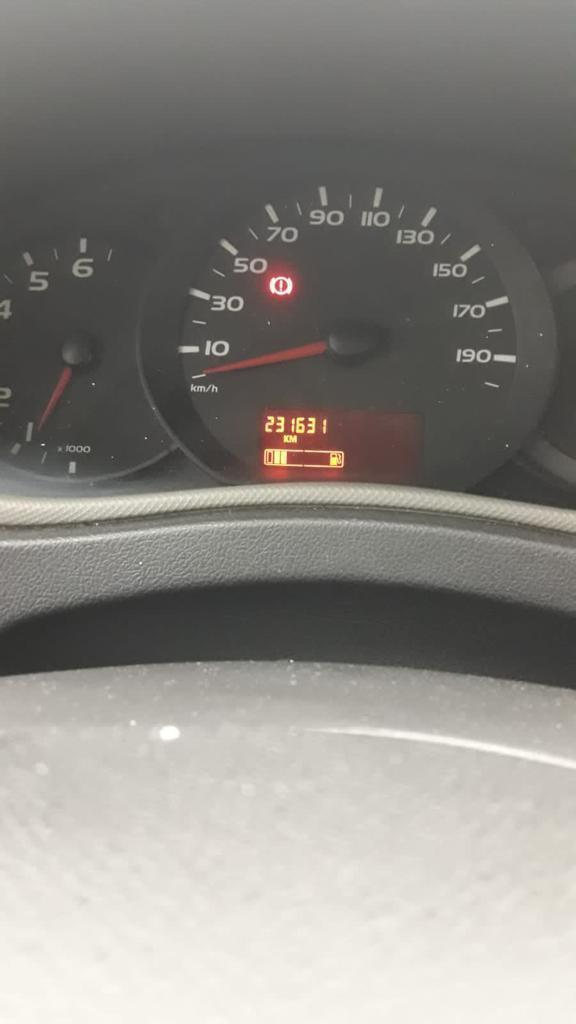1: (321, 418, 328, 435), (289, 416, 295, 433)
2: (263, 414, 274, 433)
3: (275, 415, 285, 433), (306, 416, 315, 434)
6: (296, 415, 305, 433)
X: (289, 434, 297, 443), (283, 434, 289, 443)
odometer: (259, 405, 426, 487)
